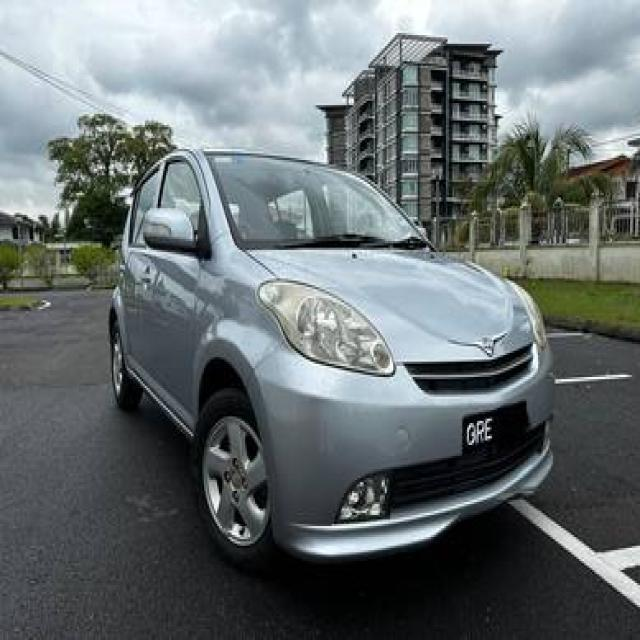PeroduaMyvi: (105, 142, 556, 570)
